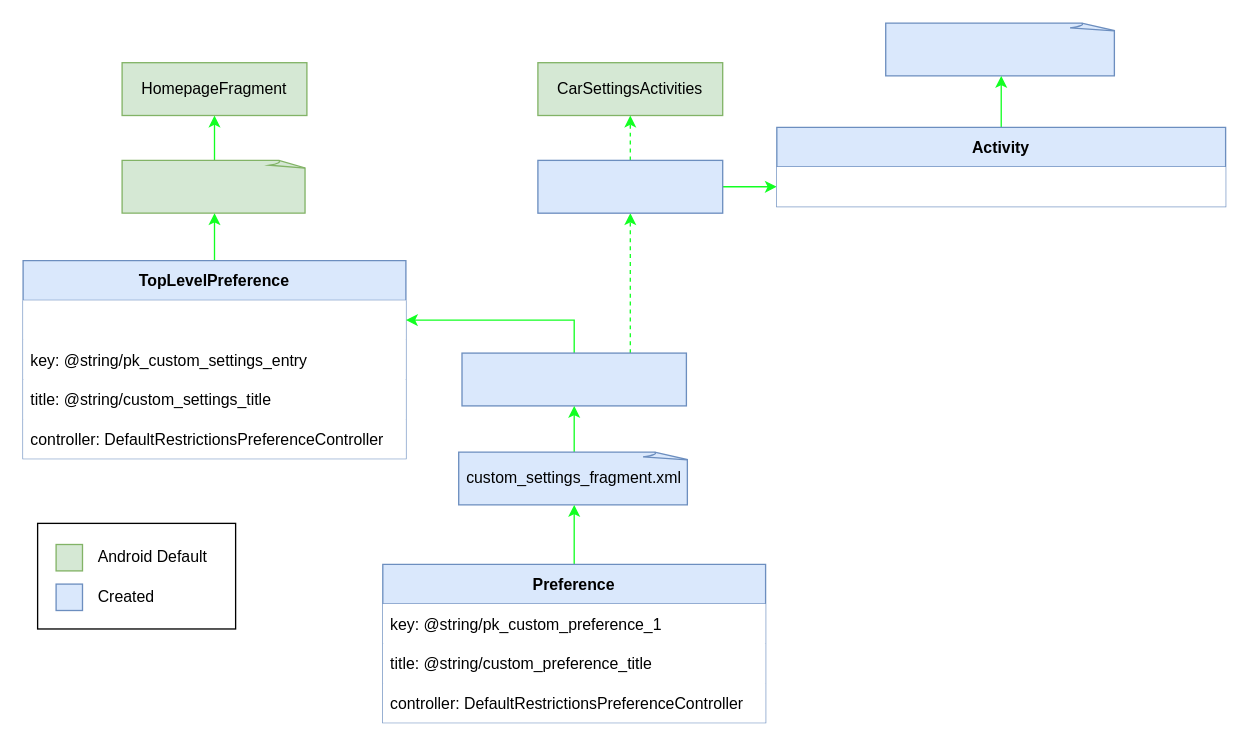
Image size: 1249x746. Some labels were removed from this diagram. Here are the shapes that lost their labels. From the top down, the centre of each, then its label:
At (1000,49): "AndroidManifest.xml".
At (214,186): "homepage_fragment.xml".
At (630,186): "CustomSettingsActivity".
At (1000,186): "name: .common.CarSettingActivities$CustomSettingsActivity".
At (213,319): "fragment: CustomSettingsFragment".
At (573,379): "CustomSettingsFragment".
